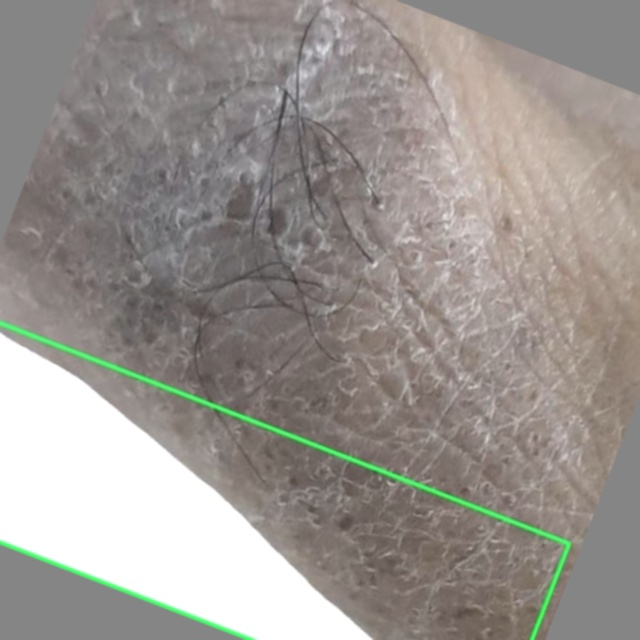Eczema: (0, 324, 569, 639)
